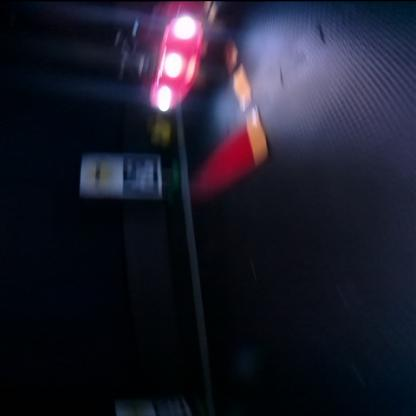Duckie: (146, 118, 170, 146)
Duckiebot: (116, 4, 215, 112)
Intersection sign: (79, 157, 119, 191)
QR code: (121, 156, 159, 194)
